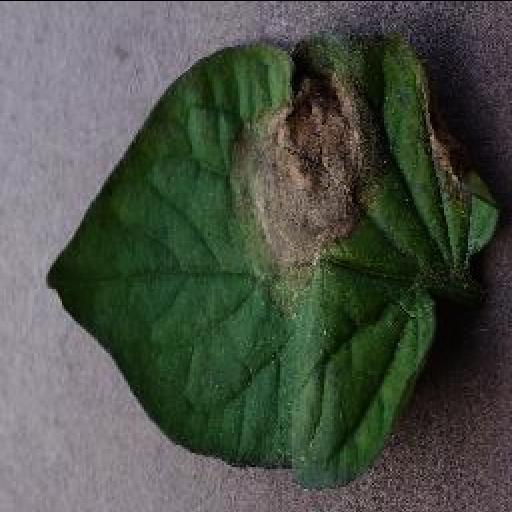disease_tomato: (42, 28, 510, 490)
